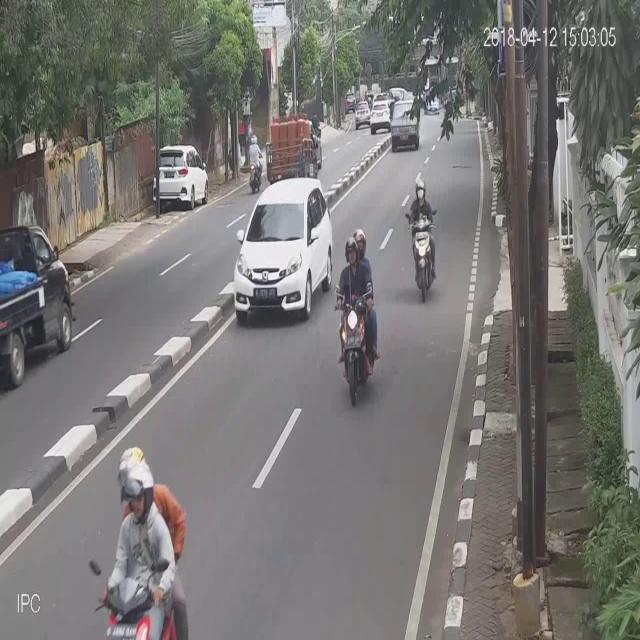bus: (87, 443, 191, 639), (330, 229, 382, 407), (403, 177, 443, 303), (243, 128, 264, 197)
motorcycle: (232, 177, 334, 326), (153, 137, 209, 218), (391, 100, 419, 150), (370, 100, 390, 134), (355, 102, 369, 129)
truck: (0, 221, 76, 389)
